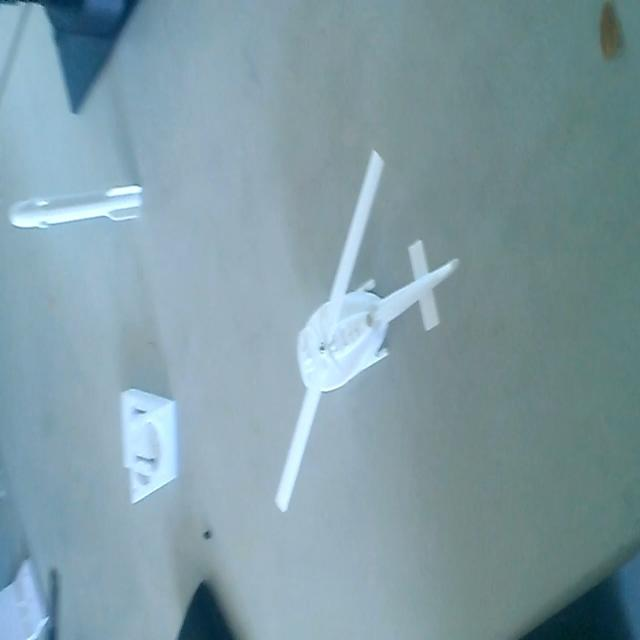Helicopter: (270, 149, 461, 515)
Rocket: (6, 183, 153, 230)
